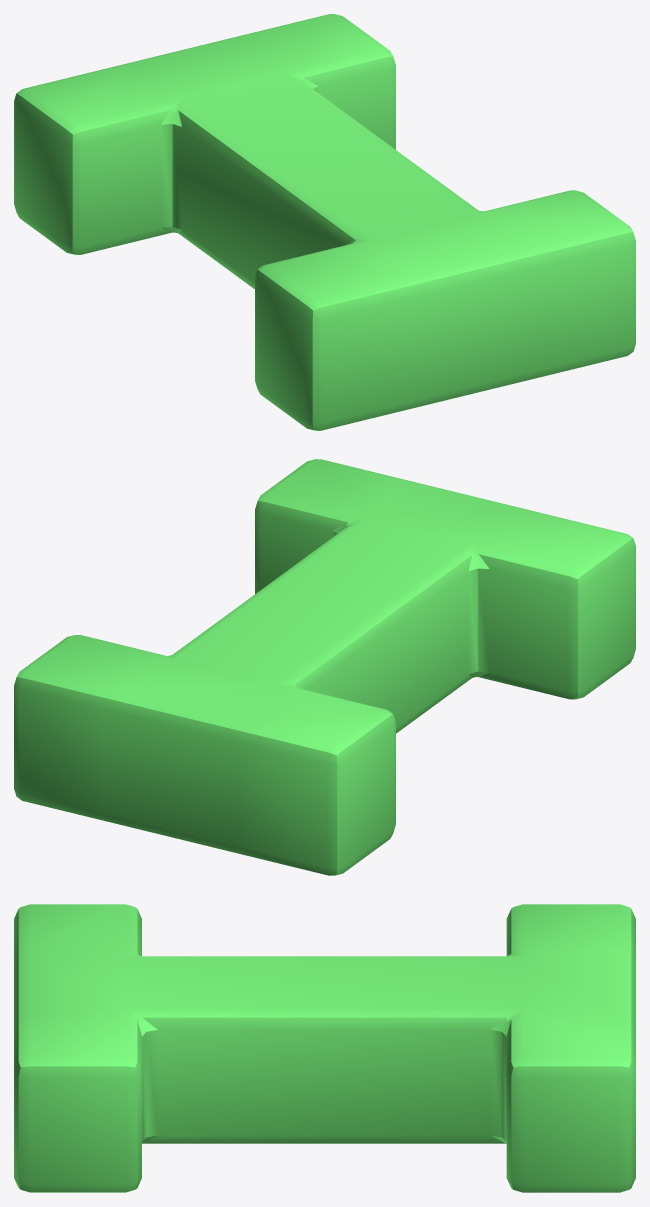
3 renders of one model, top to bottom at view 1: azimuth 30°, elevation 25°; view 2: azimuth 150°, elevation 25°; view 3: azimuth 270°, elevation 25°, orthographic. The views are drawn at different scales.
Parts seen in each view (by area): view 1: 큐브.002; view 2: 큐브.002; view 3: 큐브.002.
Part boxes in pixels (x1=…): 큐브.002: x1=14, y1=14, x2=635, y2=430; 큐브.002: x1=14, y1=459, x2=635, y2=875; 큐브.002: x1=14, y1=904, x2=635, y2=1192.
Size of the model in its own units: 493 by 187 by 784.
